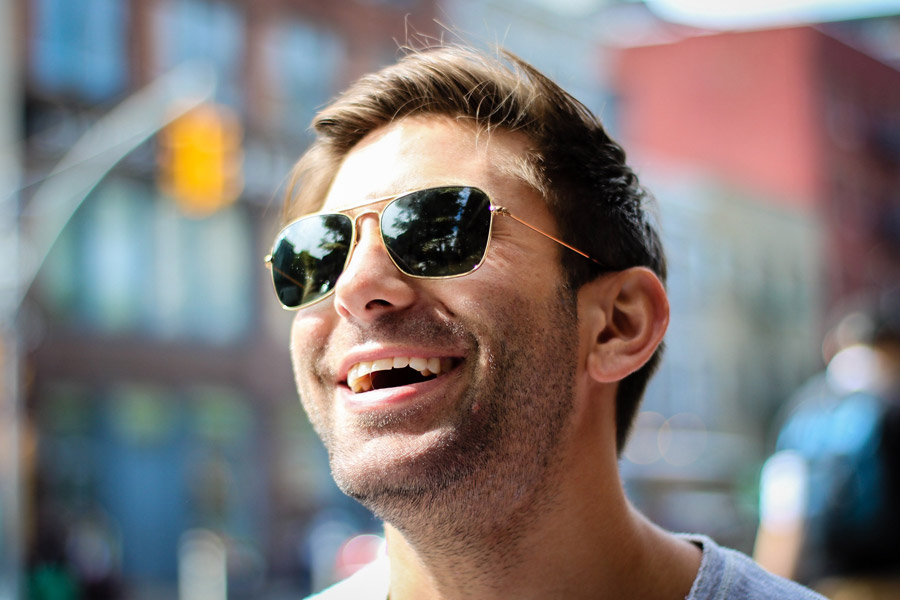male: (257, 39, 839, 600)
